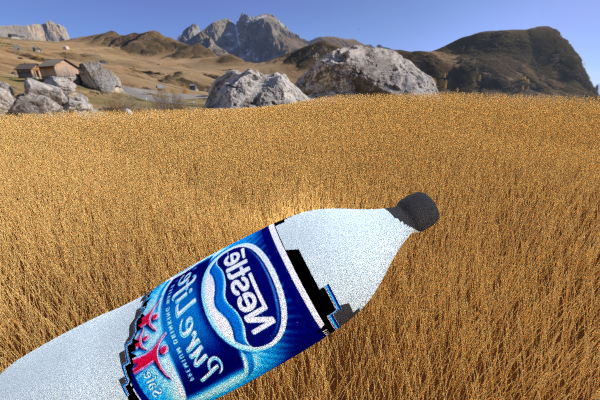Plastic Bottle: (0, 191, 439, 400), (229, 120, 276, 152), (86, 111, 134, 134)
